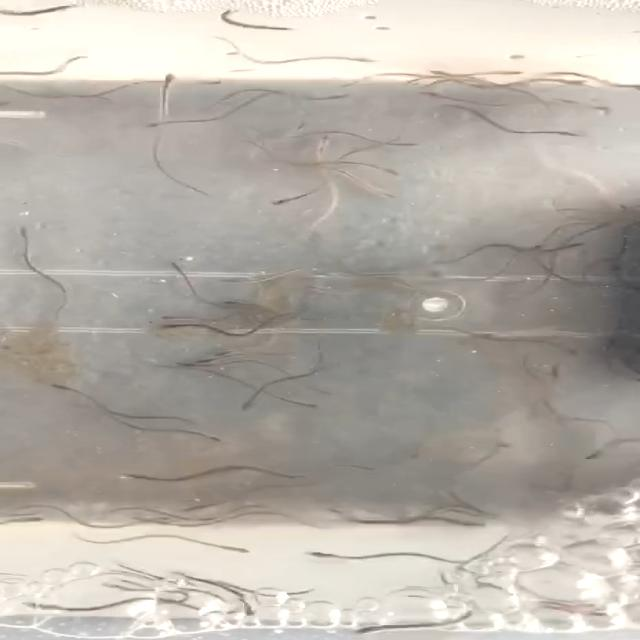active_glass_eel: (144, 112, 192, 134), (14, 598, 70, 614), (574, 601, 622, 619), (304, 548, 346, 564), (94, 577, 130, 595), (51, 0, 89, 17), (46, 379, 82, 395), (156, 70, 182, 92), (113, 471, 155, 484), (562, 76, 596, 92), (230, 598, 260, 616), (171, 358, 214, 370), (126, 512, 158, 528), (268, 193, 298, 210), (188, 352, 230, 364), (218, 274, 255, 287), (545, 362, 569, 382), (222, 540, 252, 556), (153, 310, 187, 324), (236, 396, 264, 412), (580, 452, 612, 466), (332, 90, 363, 104), (290, 118, 320, 132), (160, 511, 190, 525), (294, 400, 328, 412), (14, 513, 51, 524), (452, 520, 489, 531), (550, 128, 590, 138), (386, 138, 426, 148), (348, 624, 388, 634), (347, 50, 375, 64), (198, 76, 226, 90), (558, 346, 586, 360), (373, 164, 403, 177), (218, 296, 250, 308), (585, 220, 616, 232), (368, 186, 394, 200), (166, 260, 192, 274), (6, 226, 36, 238), (356, 465, 388, 476), (412, 88, 441, 100), (422, 65, 450, 77), (313, 132, 334, 148), (198, 432, 226, 444), (302, 387, 335, 397), (174, 505, 214, 513), (157, 322, 186, 333), (209, 347, 240, 357), (330, 80, 368, 88), (302, 282, 328, 292), (311, 270, 337, 280), (398, 75, 424, 84), (520, 243, 548, 251), (564, 240, 592, 248)
